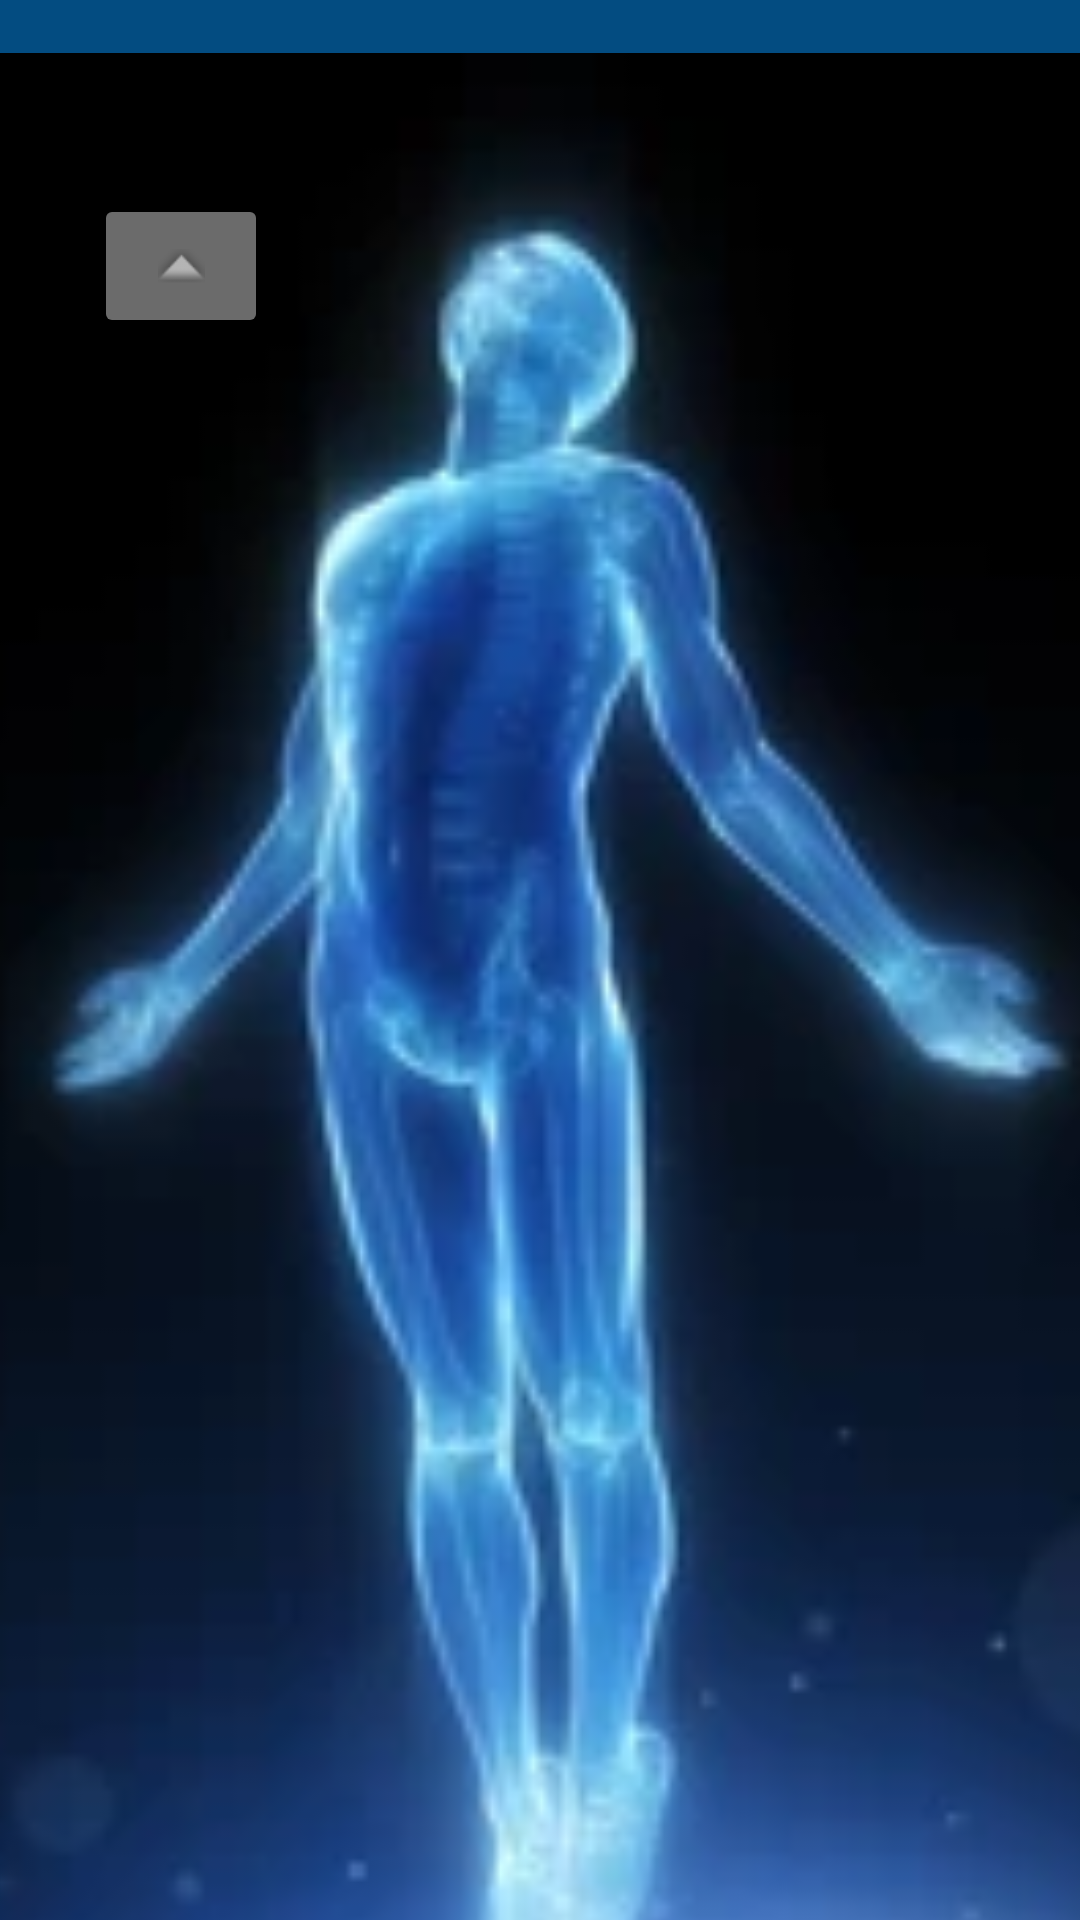

Point at icon controls on the screen. Image size 1080px×1920px, points as [x,y].
arrow up float: [181,266]
